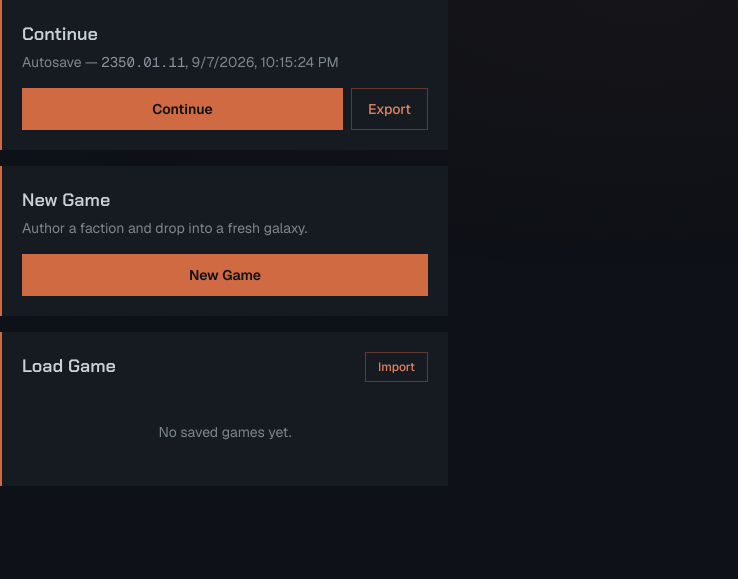
Test: StartScreen — load › shows the real error text when loadGame rejects
What coordinates should you click on to do the following:
click the button "Continue"
I would click on:
 (182, 109)
Its box is [22,88,343,130].
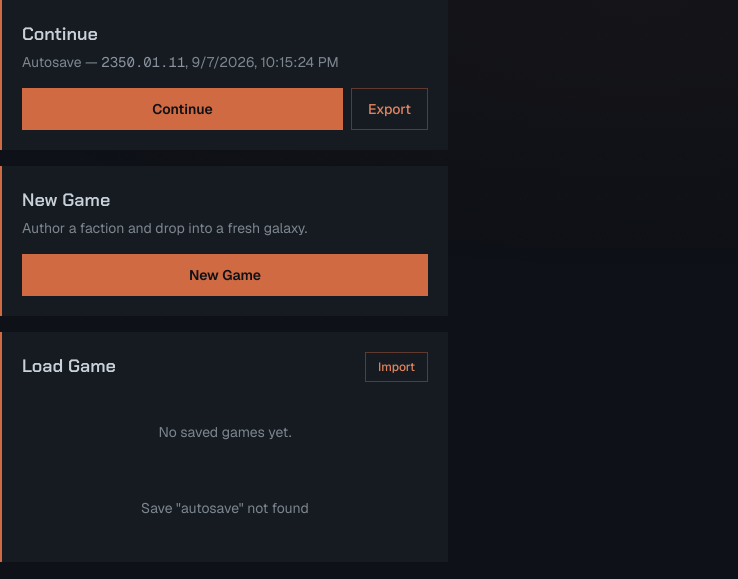
expect the text "Save \"autosave\" not found" is shown: met, box [141,499,309,517]
